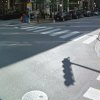crosswalk: (24, 23, 98, 46)
